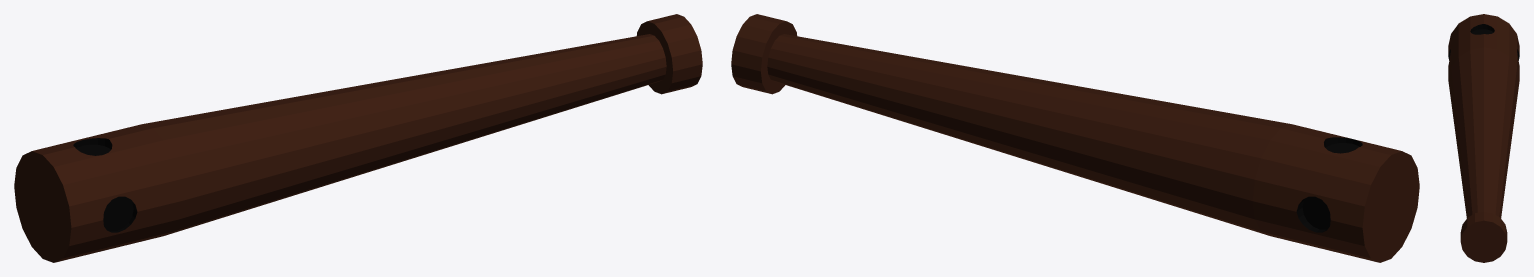
The model's file is Noga.fbx.
The picture shows the model from 3 angles, left to right: view 1: azimuth 30°, elevation 25°; view 2: azimuth 150°, elevation 25°; view 3: azimuth 270°, elevation 25°; orthographic projection. The views are drawn at different scales.
Visible parts, largest first — view 1: Cylinder.008; view 2: Cylinder.008; view 3: Cylinder.008.
Part boxes in pixels (x1=…): Cylinder.008: x1=14, y1=14, x2=702, y2=262; Cylinder.008: x1=731, y1=14, x2=1419, y2=262; Cylinder.008: x1=1448, y1=14, x2=1519, y2=262.
Size of the model in its own units: 244 by 37.66 by 37.66.
